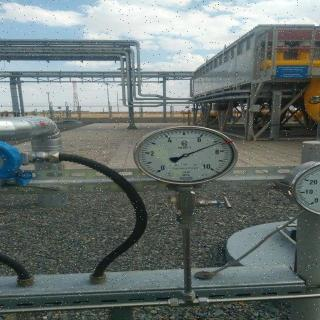gauge: (132, 122, 238, 186), (289, 159, 319, 217), (203, 162, 220, 176), (151, 163, 165, 177), (306, 196, 318, 208), (182, 152, 190, 159), (218, 140, 223, 143)
